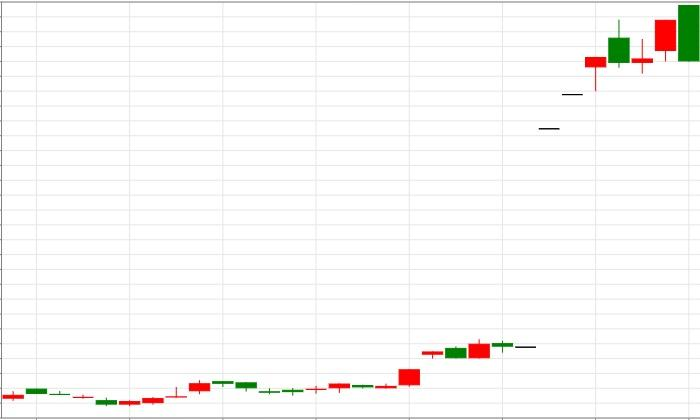bearish_engulfing_fall: (538, 5, 700, 130)
